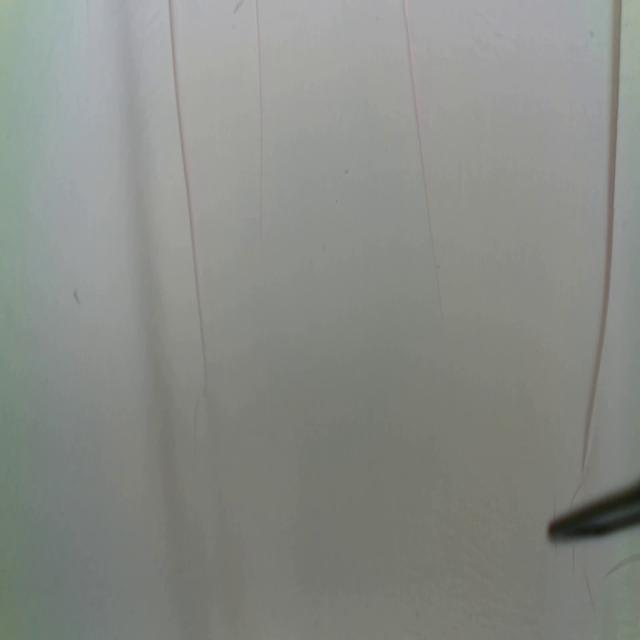crease: (581, 0, 624, 470), (166, 1, 205, 380), (403, 0, 445, 321), (255, 0, 265, 235), (601, 547, 640, 574), (583, 566, 597, 616)
